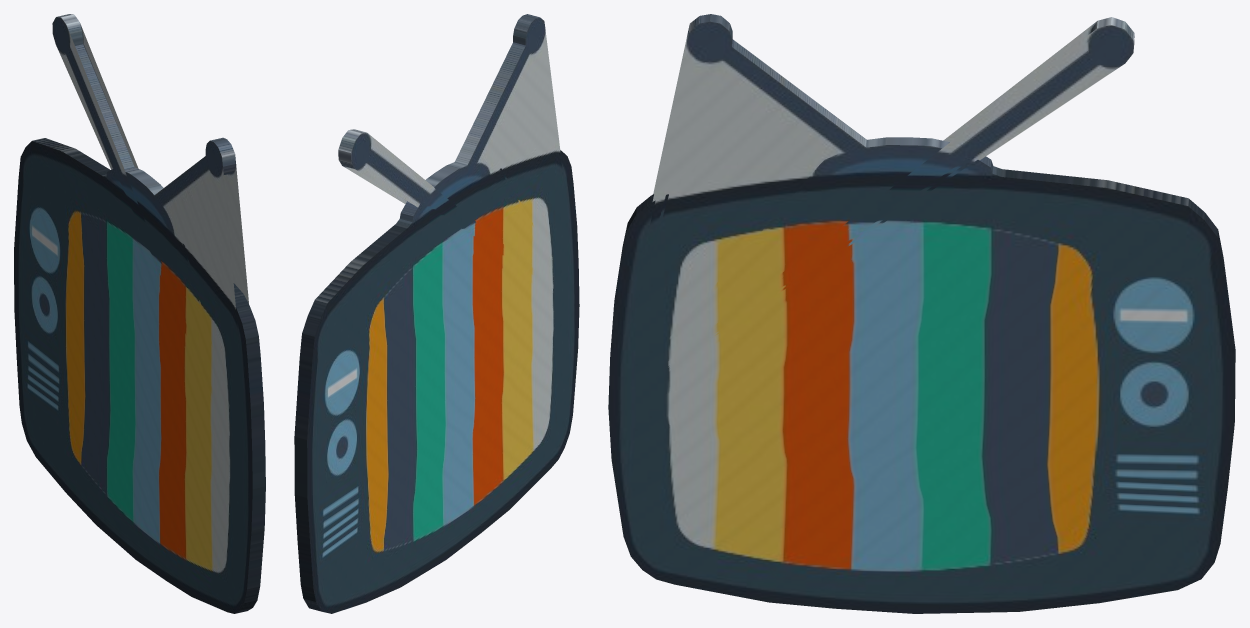
File: tv  icon.fbx
3 renders of one model, left to right at view 1: azimuth 30°, elevation 25°; view 2: azimuth 150°, elevation 25°; view 3: azimuth 270°, elevation 25°, orthographic. The views are drawn at different scales.
Visible parts, largest first — view 1: Plane.004; view 2: Plane.004; view 3: Plane.004.
Boxes of the visible parts, <box> form: Plane.004: <box>14,14,265,613</box>; Plane.004: <box>294,14,579,613</box>; Plane.004: <box>608,14,1235,613</box>.
Bounding box in the file's own units: 3.14 × 49.25 × 47.26.
1 material, 1 textured.
